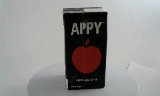appy: (57, 5, 101, 90)
